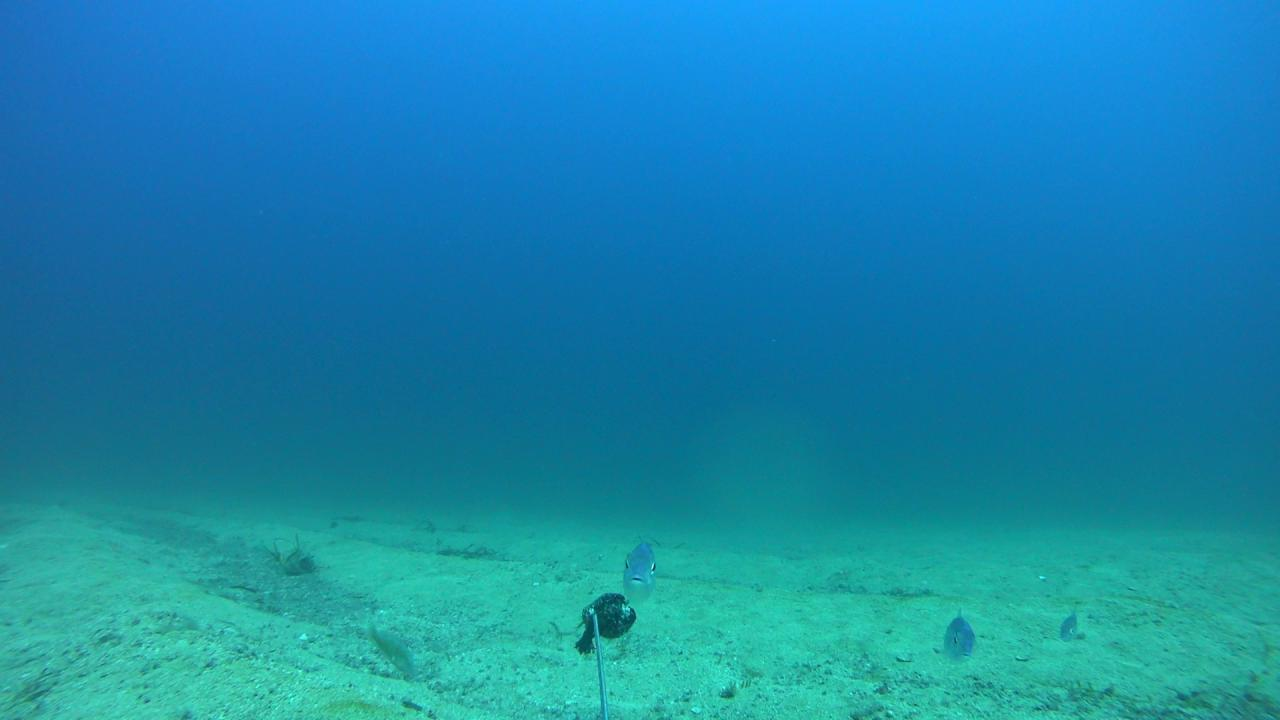pagellus: (624, 541, 656, 603), (944, 610, 976, 664), (1058, 606, 1076, 641)
raor: (370, 627, 415, 679)
